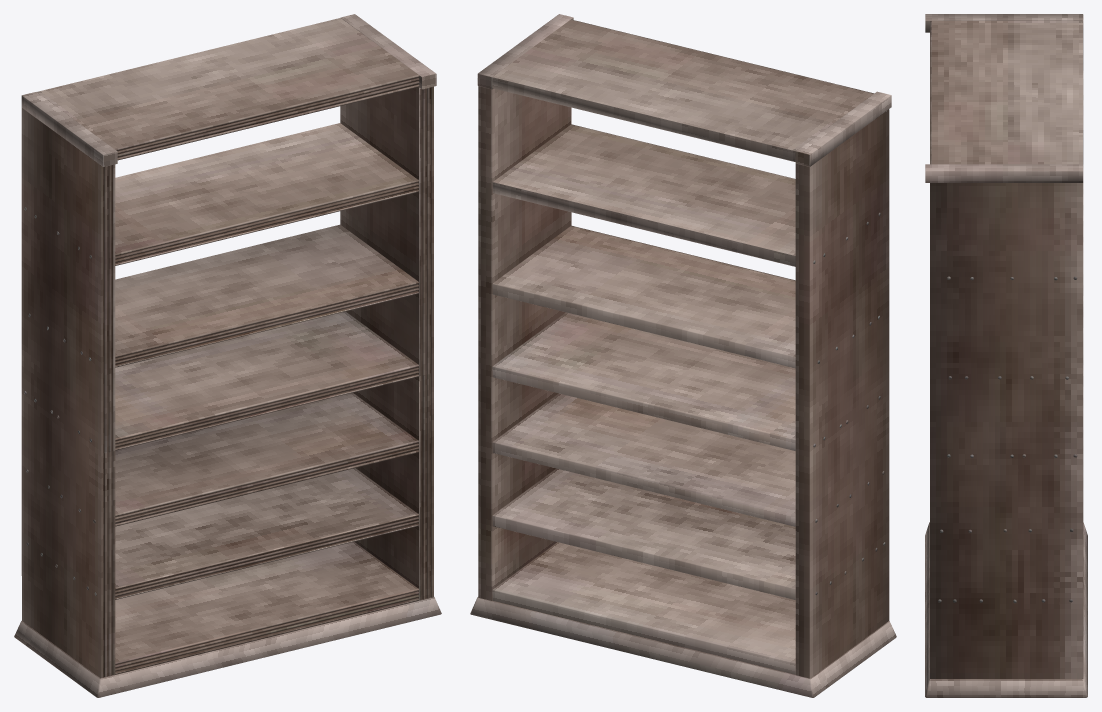
File: wooden_bookshelf_worn.glb
3 renders of one model, left to right at view 1: azimuth 30°, elevation 25°; view 2: azimuth 150°, elevation 25°; view 3: azimuth 270°, elevation 25°, orthographic. The views are drawn at different scales.
Visible parts, largest first — view 1: wooden_bookshelf_worn; view 2: wooden_bookshelf_worn; view 3: wooden_bookshelf_worn.
Boxes of the visible parts, x1,y1,x2,y2 form: wooden_bookshelf_worn: (14,14,441,697); wooden_bookshelf_worn: (470,14,896,697); wooden_bookshelf_worn: (925,14,1087,697).
Bounding box in the file's own units: 1.37 × 2.06 × 0.5813.
1 material, 1 textured.
